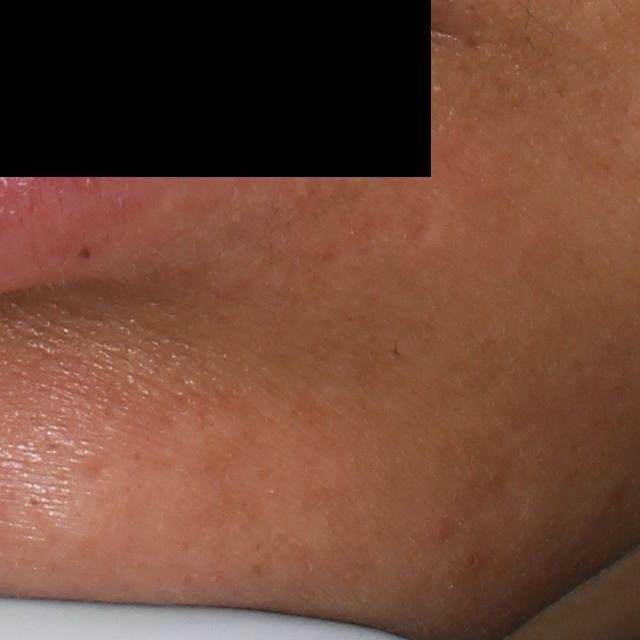nevus: (74, 241, 93, 262)
